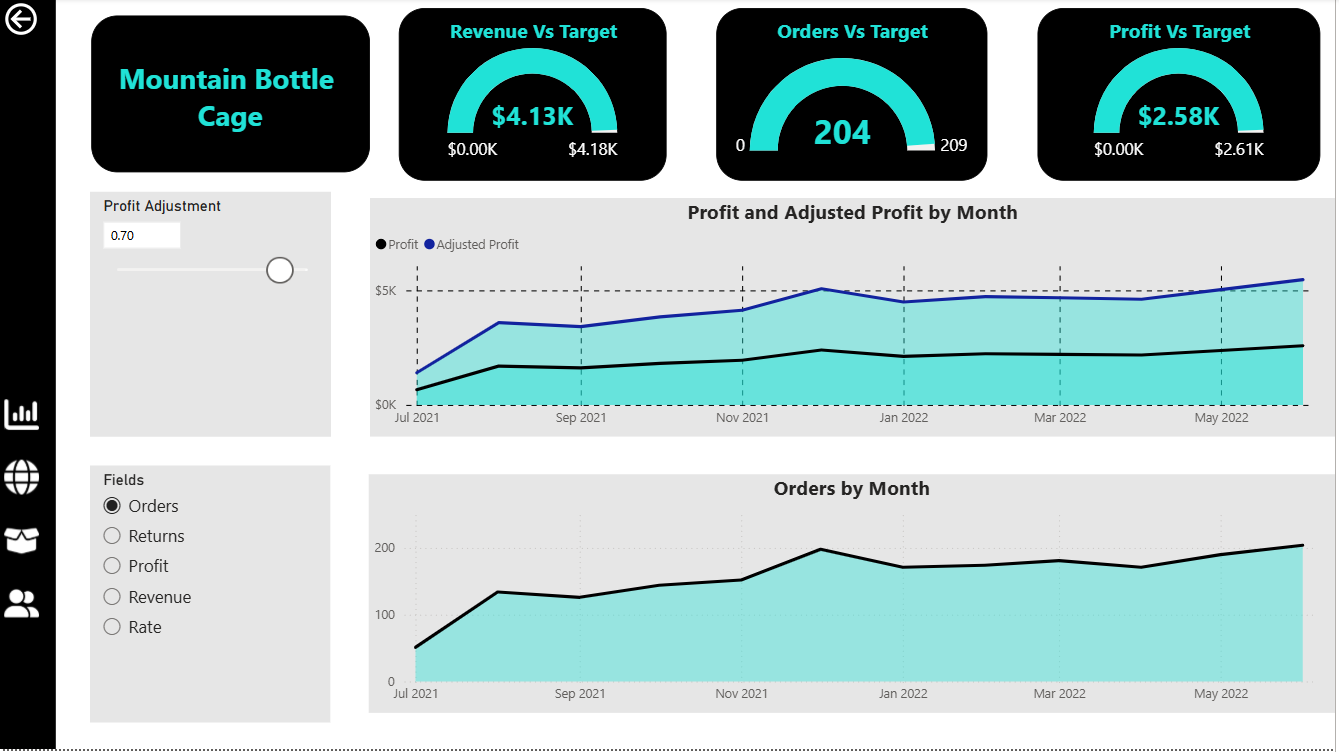

What the dashboard file says about the page in this screenshot:
{"tool":"powerbi","page":{"name":"Product Detail","canvas":[1280,720],"ordinal":2},"visuals":[{"type":"shape","box":[0,0,53.5,720.4],"z":0},{"type":"gauge","title":"Revenue Vs Target","fields":{"Y":["Measure Table.Total Revenue"],"MaxValue":["Measure Table.Target Revenue"]},"box":[382.9,10,257.1,165.7],"z":1000},{"type":"gauge","title":"Orders Vs Target","fields":{"Y":["Measure Table.Total Orders"],"MaxValue":["Measure Table.Order Target"]},"box":[687.1,10,260,165.7],"z":2000},{"type":"gauge","title":"Profit Vs Target","fields":{"Y":["Measure Table.Total Profit"],"MaxValue":["Measure Table.Profit Target"]},"box":[994.3,10,271.4,165.7],"z":3000},{"type":"areaChart","fields":{"Category":["Calendar Lookup.Start of Month"],"Y":["Measure Table.Total Profit","Measure Table.Adjusted Profit"]},"box":[354.3,191.4,925.7,228.6],"z":4000},{"type":"areaChart","fields":{"Y":["Measure Table.Total Orders"],"Category":["Calendar Lookup.Start of Month"]},"box":[353.3,456.7,926.7,228.9],"z":5000},{"type":"card","fields":{"Values":["Min(Product Lookup.ProductName)"]},"box":[87.1,17.1,267.1,150],"z":6000},{"type":"actionButton","box":[0,0,53.8,40.3],"z":7000},{"type":"actionButton","box":[0,378.6,52.9,41.4],"z":8000},{"type":"actionButton","box":[0,439,52.9,41.4],"z":9000},{"type":"actionButton","box":[0,499.5,52.9,41.4],"z":10000},{"type":"actionButton","box":[0,560,52.9,41.4],"z":11000},{"type":"slicer","fields":{"Values":["Profit Adjustment.Profit Adjustment"]},"box":[86.7,185.6,230,234.4],"z":12000},{"type":"slicer","fields":{"Values":["Fields 3.Fields"]},"box":[86.7,447.8,230,246.7],"z":13000}]}

Visuals, with their boxes on the page's 1280x720 design canvas (x1, y1, x2, y2). These are canvas units, not pixel positions in the 1339x752 screenshot, which may show the page scaled, cropped or inside an application window:
shape: locate(0, 0, 54, 720)
"Revenue Vs Target" gauge: locate(383, 10, 640, 176)
"Orders Vs Target" gauge: locate(687, 10, 947, 176)
"Profit Vs Target" gauge: locate(994, 10, 1266, 176)
areaChart - Calendar Lookup.Start of Month x Measure Table.Total Profit: locate(354, 191, 1280, 420)
areaChart - Measure Table.Total Orders x Calendar Lookup.Start of Month: locate(353, 457, 1280, 686)
card - Min(Product Lookup.ProductName): locate(87, 17, 354, 167)
actionButton: locate(0, 0, 54, 40)
actionButton: locate(0, 379, 53, 420)
actionButton: locate(0, 439, 53, 480)
actionButton: locate(0, 500, 53, 541)
actionButton: locate(0, 560, 53, 601)
slicer - Profit Adjustment.Profit Adjustment: locate(87, 186, 317, 420)
slicer - Fields 3.Fields: locate(87, 448, 317, 694)
